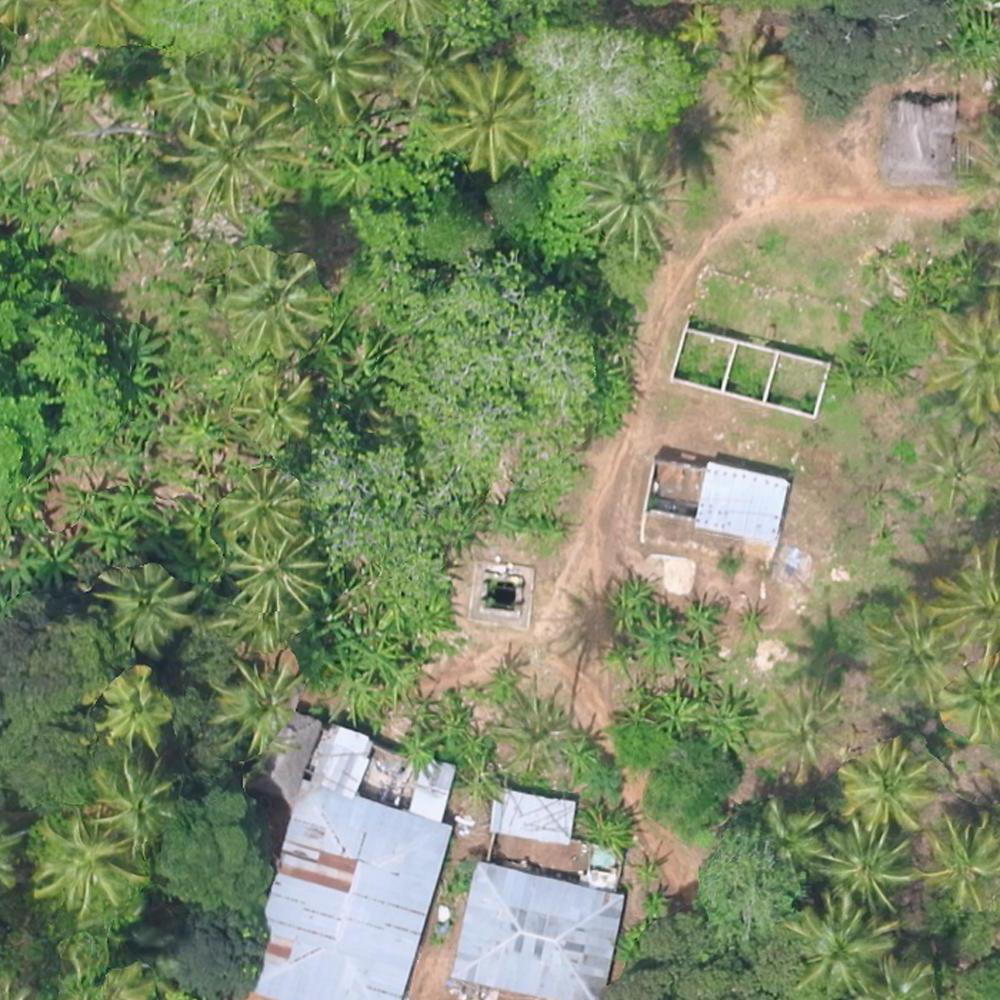Palm: (169, 110, 295, 215), (434, 64, 542, 167), (271, 11, 381, 112), (581, 143, 680, 250), (67, 167, 176, 262), (221, 248, 322, 350), (32, 819, 144, 910), (792, 897, 891, 991), (816, 823, 921, 908), (863, 601, 954, 694), (97, 560, 190, 647), (841, 743, 933, 830), (234, 542, 331, 616), (90, 764, 176, 847), (2, 94, 84, 181), (760, 686, 841, 774), (926, 813, 1000, 909), (210, 659, 295, 742), (155, 57, 237, 134), (383, 31, 466, 107), (222, 468, 301, 545), (718, 36, 790, 117), (97, 673, 168, 748), (235, 373, 310, 442)
